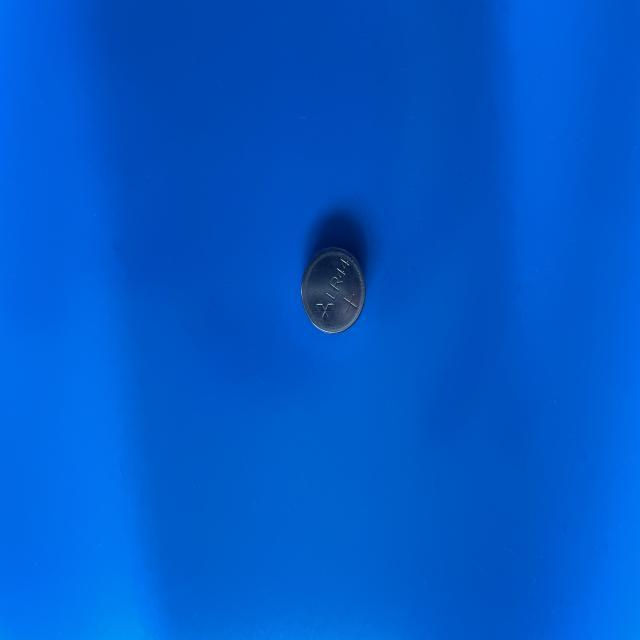COIN: (300, 244, 367, 335)
